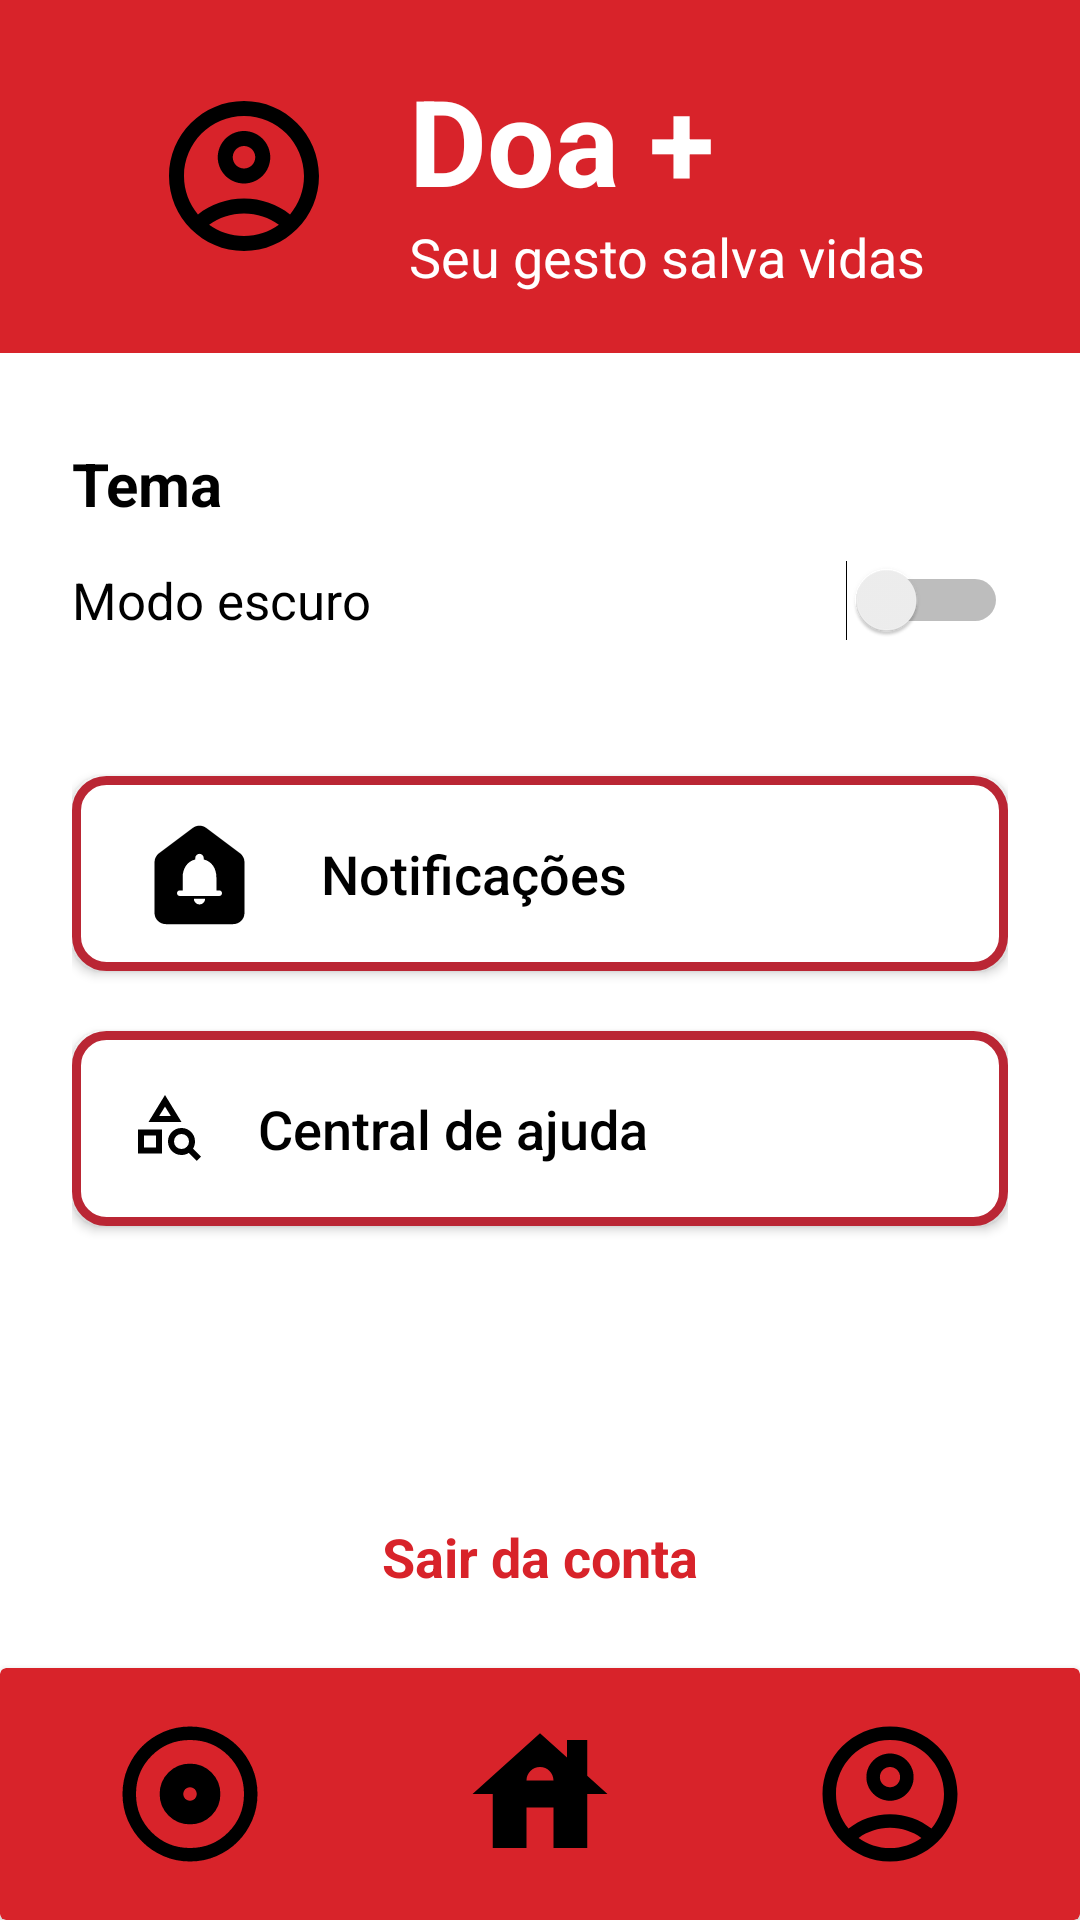

Icon bounding boxes for this 1080x1920 phone screenshot, format [x1, y1, x2, y2]:
Campanhas: [122, 1726, 258, 1862]
Início: [473, 1733, 607, 1848]
Perfil: [822, 1726, 958, 1862]
Perfil do usuário: [169, 101, 319, 251]
